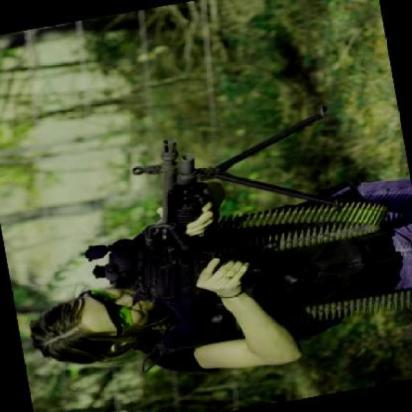Gun: (72, 126, 278, 365)
